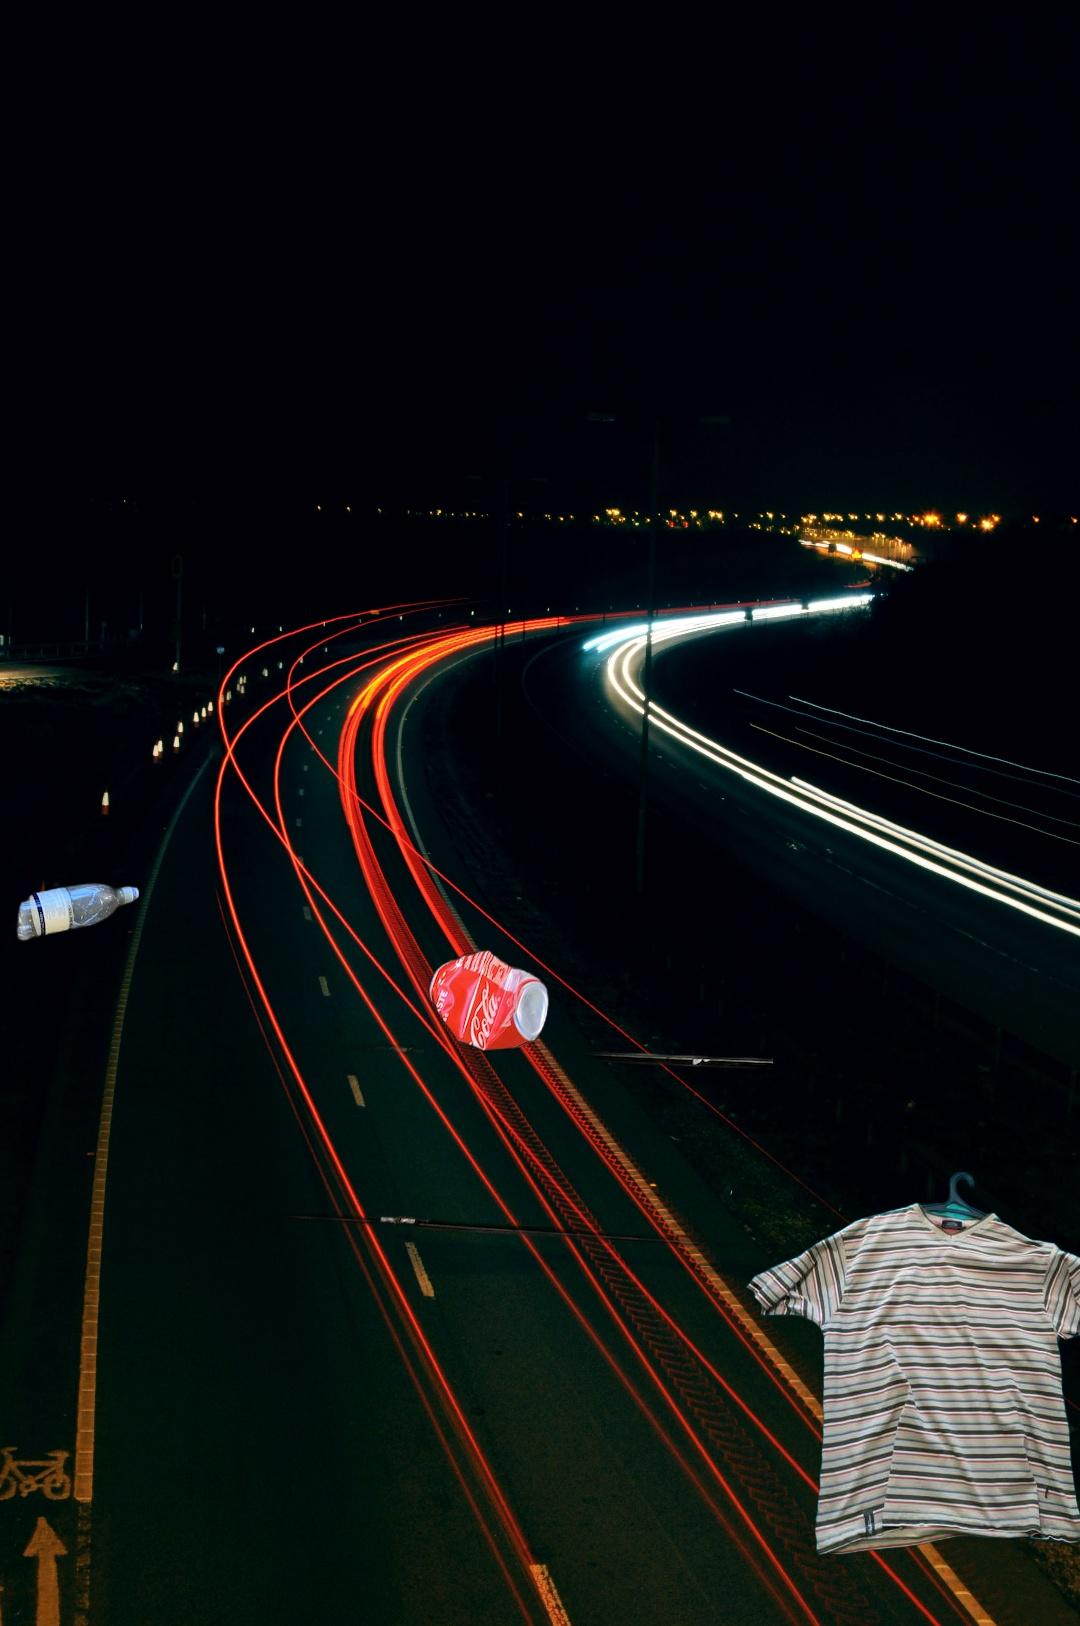clothes: (745, 1168, 1080, 1559)
metal-cans: (262, 893, 773, 1333)
plastic-bottles: (12, 879, 143, 945)
